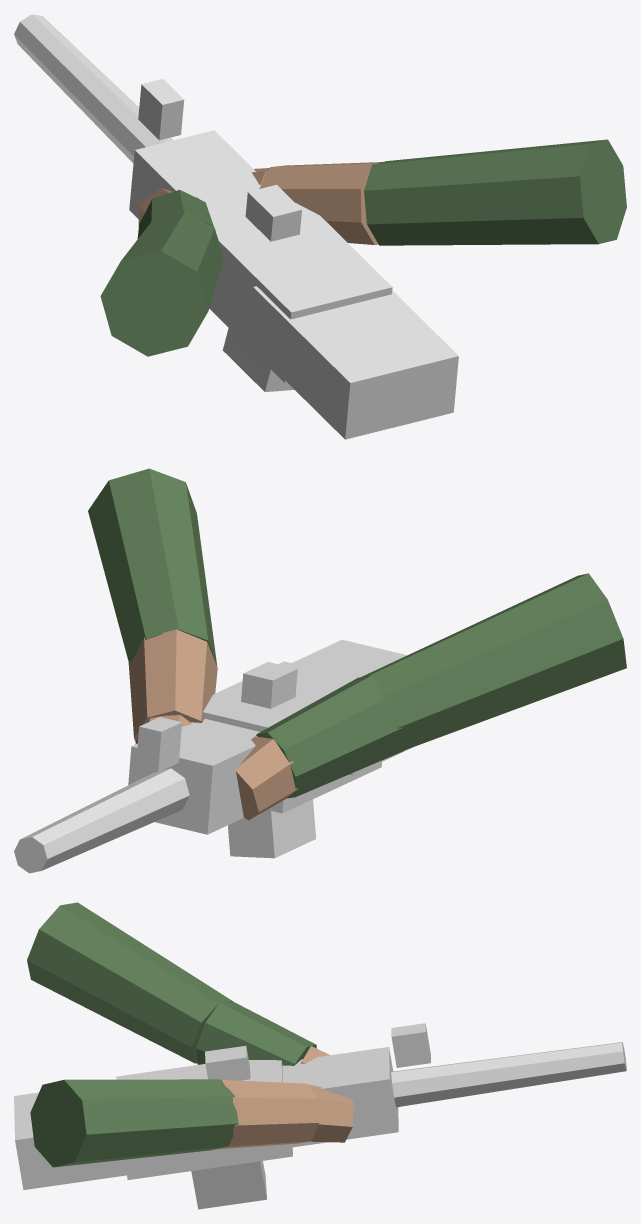
The model's file is cazador_fps.fbx.
The picture shows the model from 3 angles, top to bottom: view 1: azimuth 30°, elevation 25°; view 2: azimuth 150°, elevation 25°; view 3: azimuth 270°, elevation 25°; orthographic projection. The views are drawn at different scales.
Visible parts, largest first — view 1: cazador_fps_mejorado; view 2: cazador_fps_mejorado; view 3: cazador_fps_mejorado.
Boxes of the visible parts, left/top/right/bottom form: cazador_fps_mejorado: left=14, top=14, right=626, bottom=439; cazador_fps_mejorado: left=14, top=468, right=626, bottom=873; cazador_fps_mejorado: left=14, top=902, right=626, bottom=1209.
Bounding box in the file's own units: 144 × 66.96 × 176.
